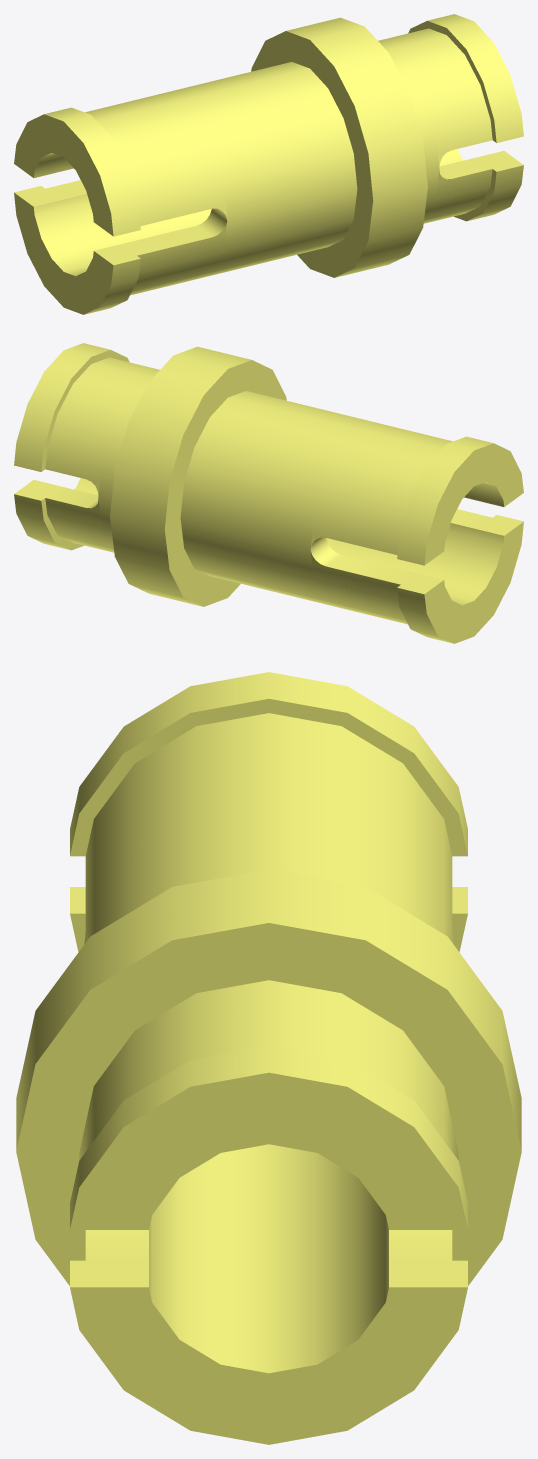
3 renders of one model, top to bottom at view 1: azimuth 30°, elevation 25°; view 2: azimuth 150°, elevation 25°; view 3: azimuth 270°, elevation 25°, orthographic. The views are drawn at different scales.
Visible parts, largest first — view 1: 32002.dat; view 2: 32002.dat; view 3: 32002.dat.
Part boxes in pixels (x1=…): 32002.dat: x1=14, y1=14, x2=523, y2=314; 32002.dat: x1=14, y1=343, x2=523, y2=643; 32002.dat: x1=16, y1=672, x2=521, y2=1444.
Size of the model in its own units: 0.012 by 0.0064 by 0.0064.
